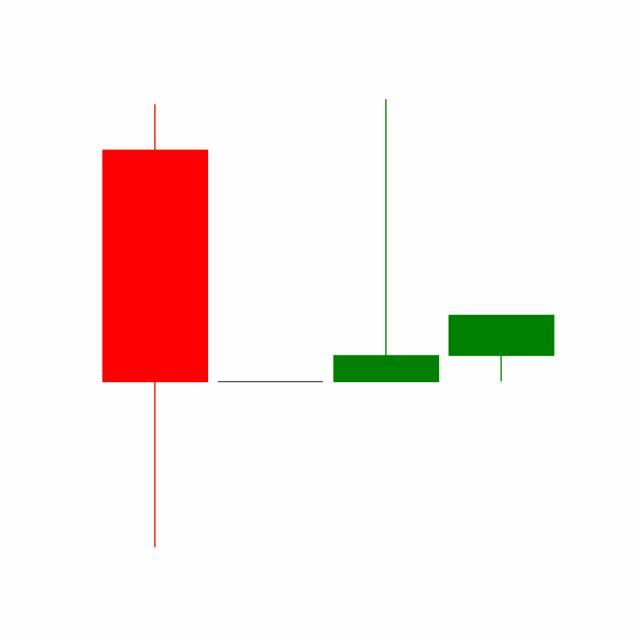Gravestone Doji: (329, 96, 445, 385)
